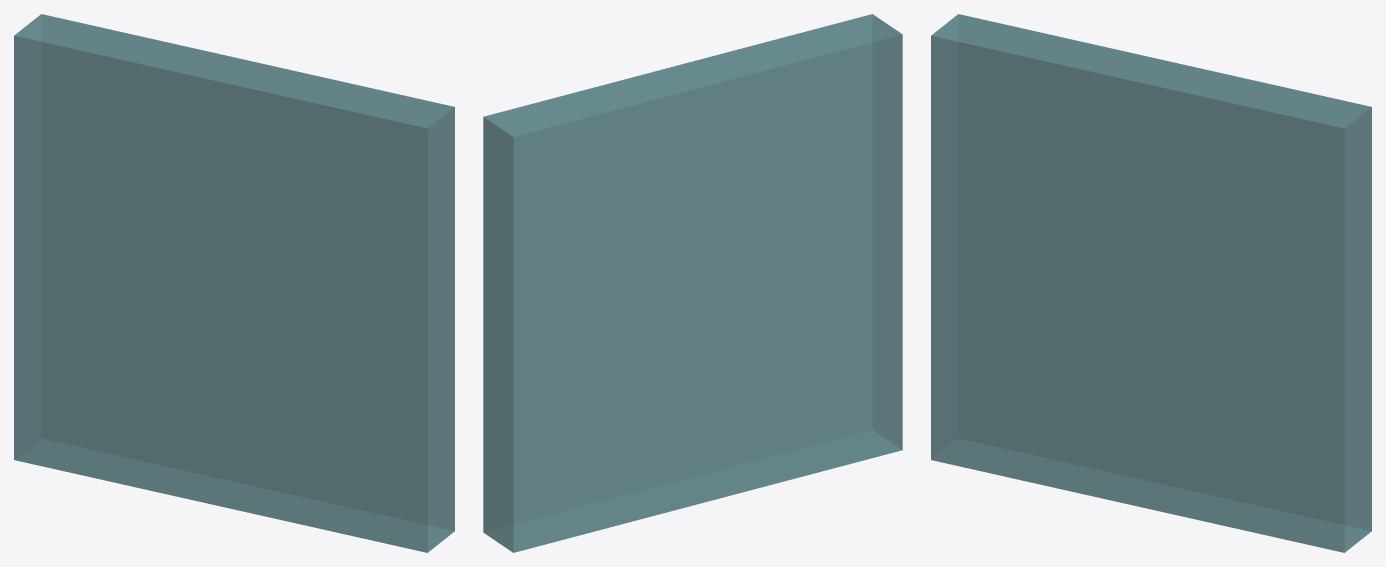
The picture shows the model from 3 angles, left to right: view 1: azimuth 90°, elevation 25°; view 2: azimuth 150°, elevation 25°; view 3: azimuth 270°, elevation 25°; orthographic projection. The views are drawn at different scales.
Visible parts, largest first — view 1: B-FF-AA2; view 2: B-FF-AA2; view 3: B-FF-AA2.
Part boxes in pixels (x1,y1,x2,y2): B-FF-AA2: [14, 14, 454, 552]; B-FF-AA2: [483, 14, 902, 552]; B-FF-AA2: [931, 14, 1371, 552].
Bounding box in the file's own units: 0.579 × 1 × 0.9412.
